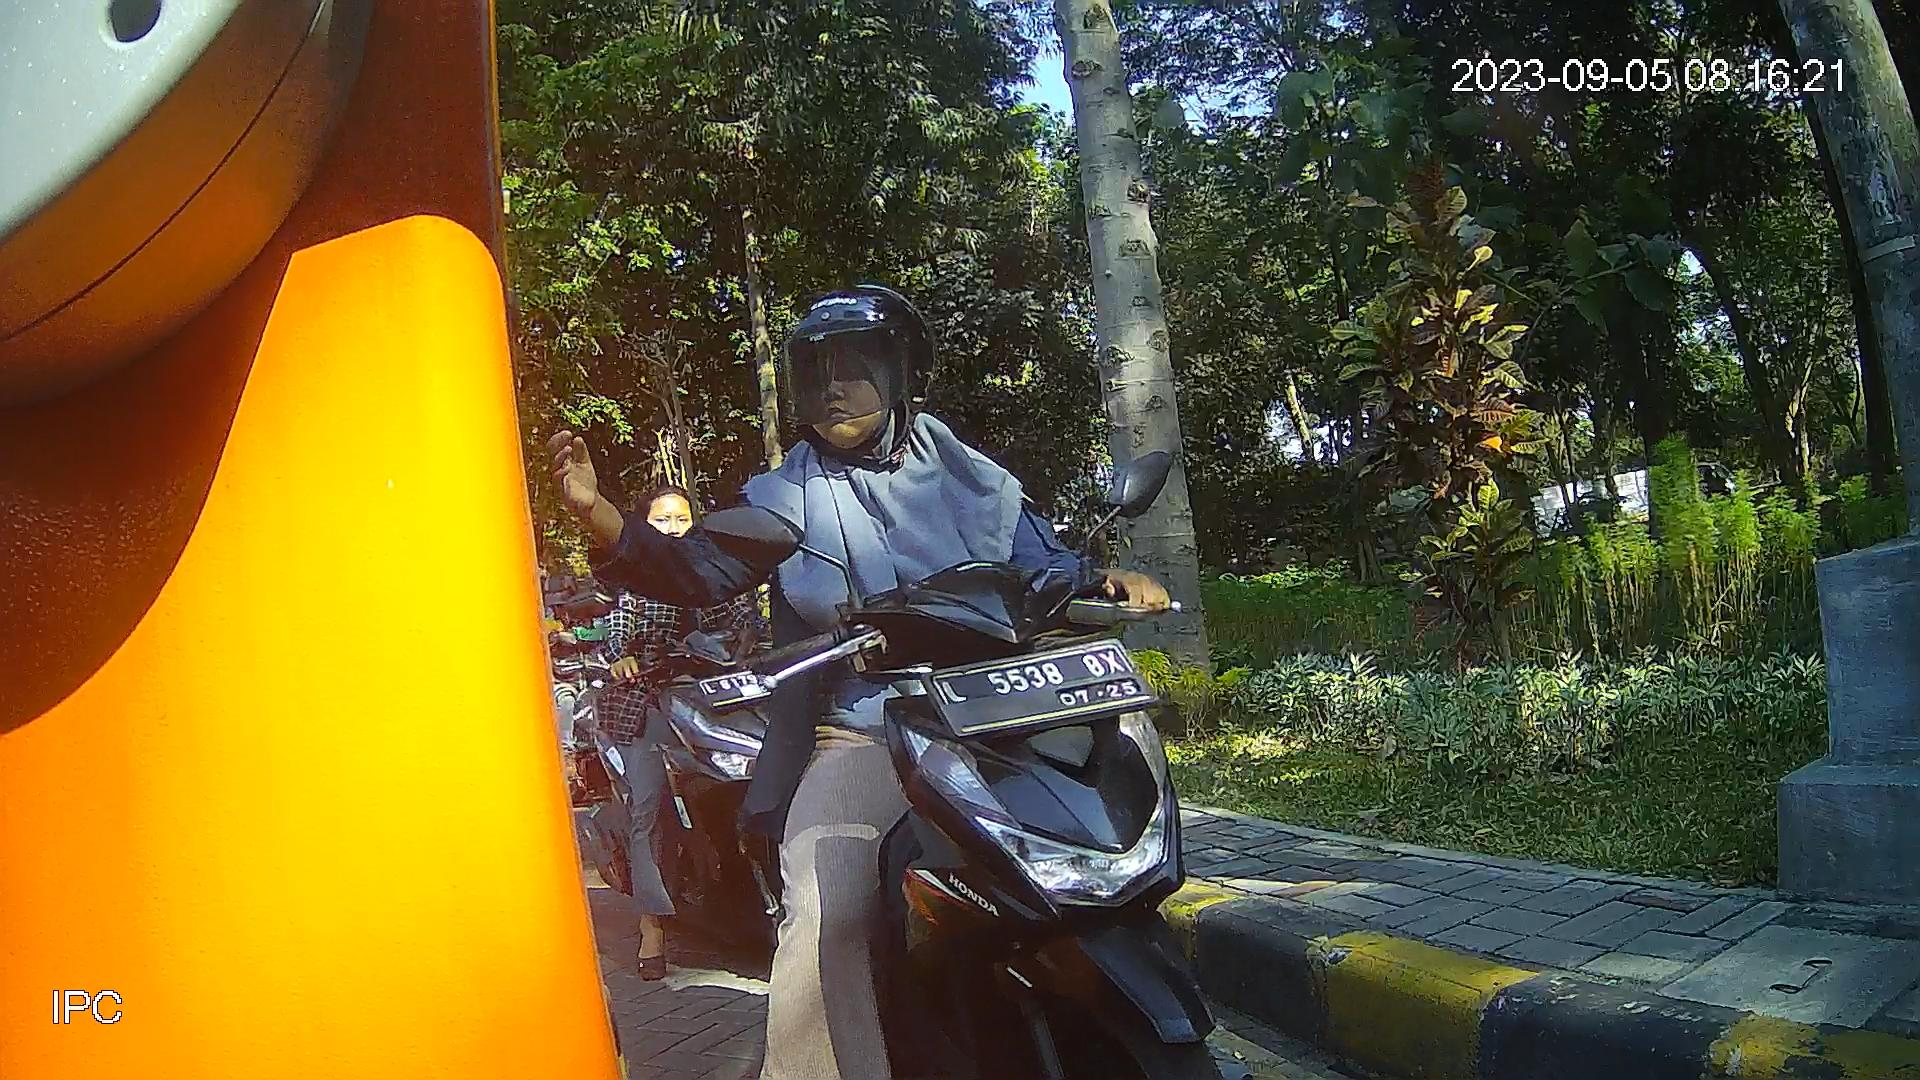plat: (914, 636, 1164, 738)
